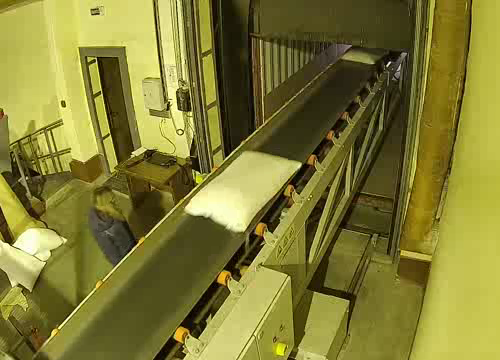bag: (184, 143, 302, 235), (341, 44, 389, 65)
